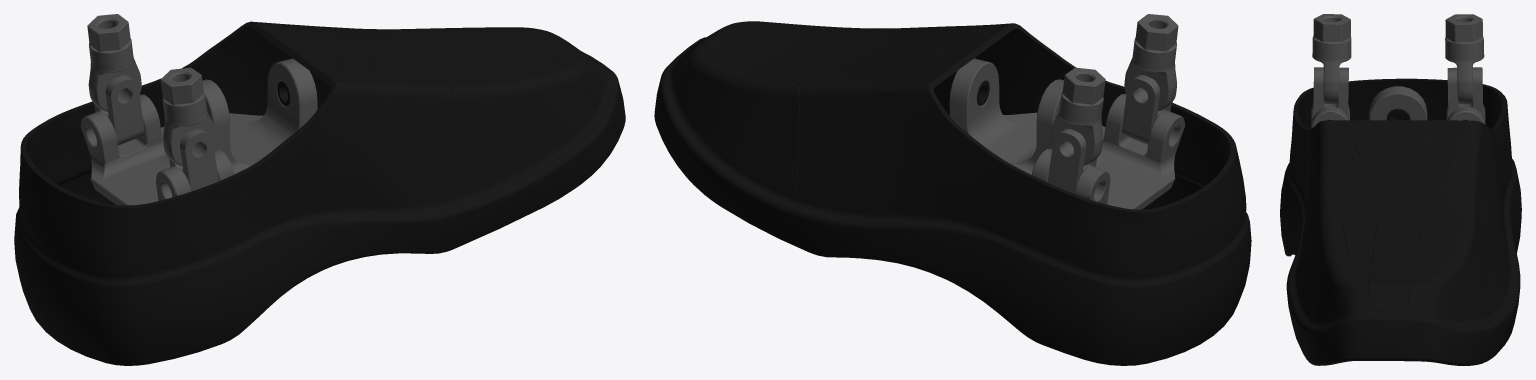
The model's file is link_left_ankle_x.glb.
3 renders of one model, left to right at view 1: azimuth 30°, elevation 25°; view 2: azimuth 150°, elevation 25°; view 3: azimuth 270°, elevation 25°, orthographic. The views are drawn at different scales.
Visible parts, largest first — view 1: link_left_ankle_x; view 2: link_left_ankle_x; view 3: link_left_ankle_x.
Part boxes in pixels (left/top/right/bottom): link_left_ankle_x: left=14, top=14, right=625, bottom=365; link_left_ankle_x: left=654, top=14, right=1251, bottom=365; link_left_ankle_x: left=1280, top=14, right=1521, bottom=365.
Bounding box in the file's own units: 0.3001 × 0.139 × 0.125.
1 material, 1 textured.
